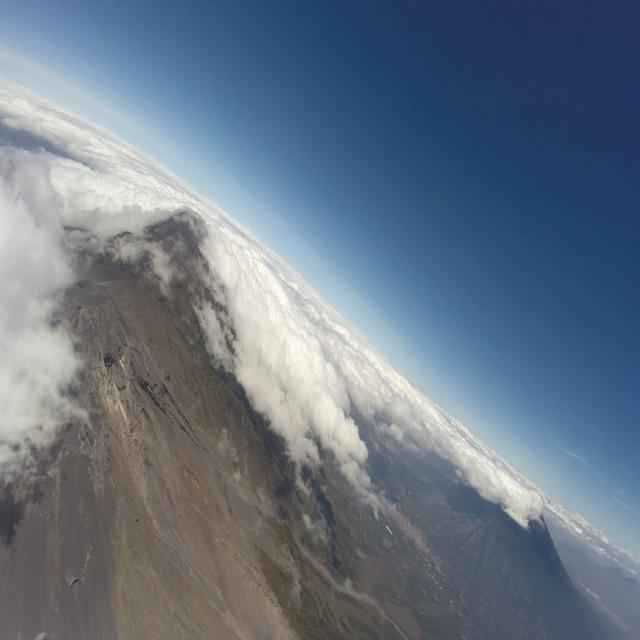Summit: (9, 240, 195, 518)
